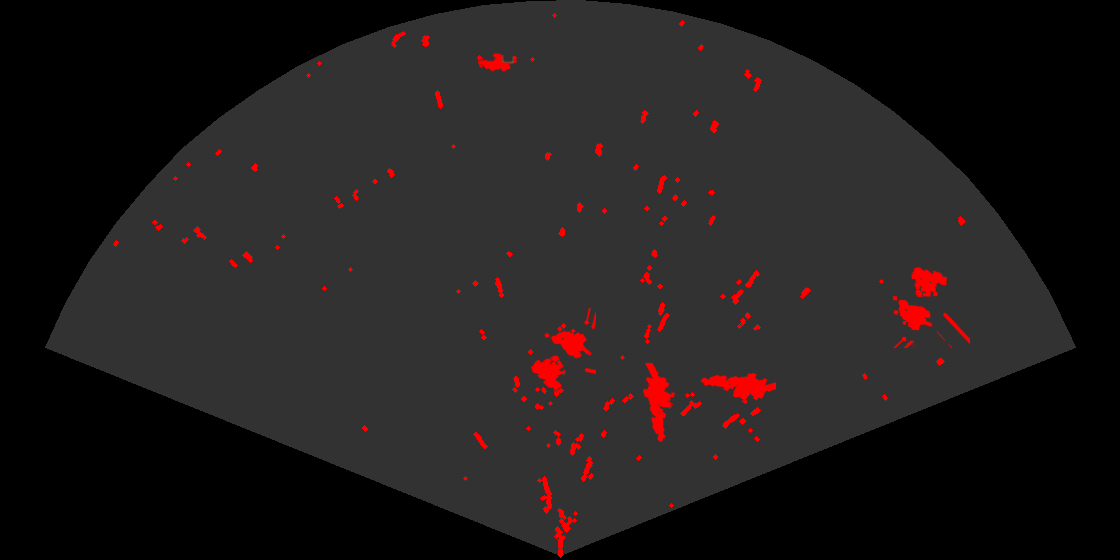AUV: (476, 51, 519, 73)
cage: (891, 266, 970, 348), (529, 308, 596, 392)
frogman: (641, 363, 677, 444), (699, 371, 776, 406)
